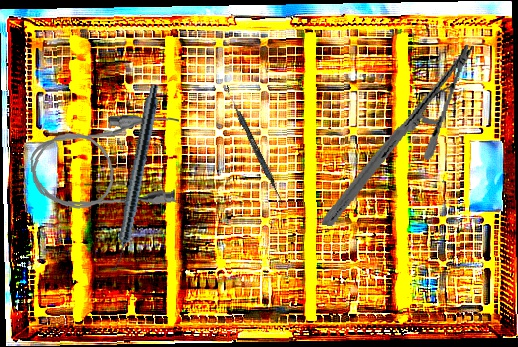Cannula: (27, 110, 186, 215)
Handpiece: (108, 83, 162, 273)
Needle Holder: (321, 25, 475, 246)
Spatula Surgical: (221, 84, 287, 205)
